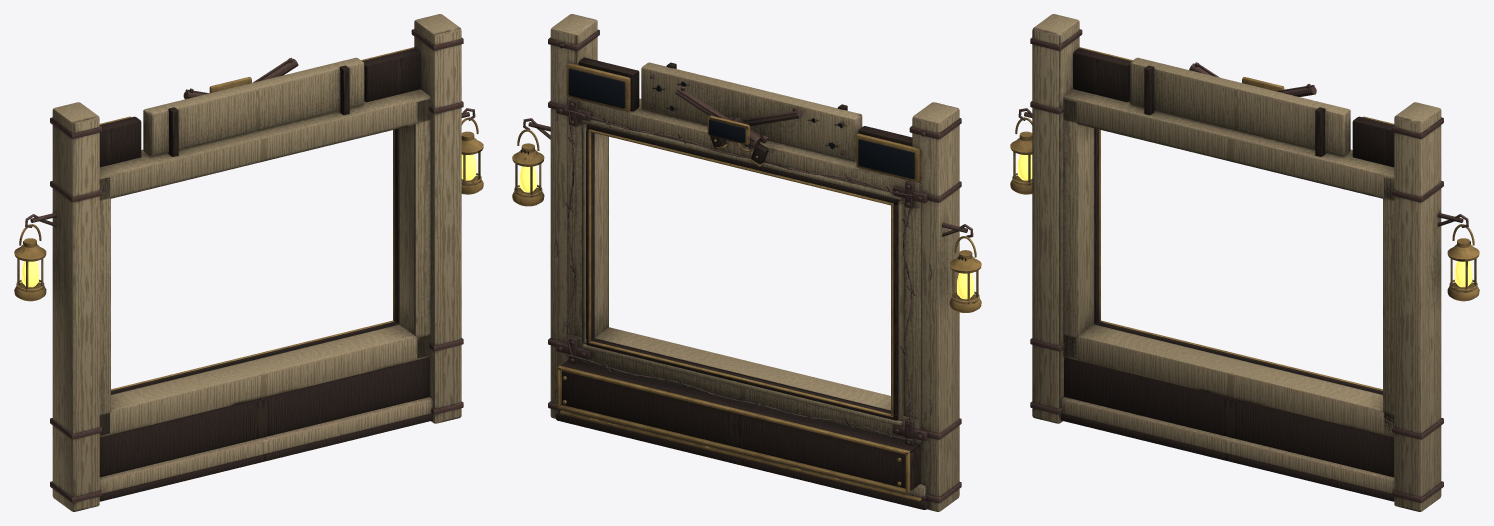
3 renders of one model, left to right at view 1: azimuth 30°, elevation 25°; view 2: azimuth 150°, elevation 25°; view 3: azimuth 330°, elevation 25°, orthographic.
Visible parts, largest first — view 1: Bleached_weathered_timber, Scorched_timber, Aged_brass, Oxidized_forged_iron, Oil_lantern_glow; view 2: Bleached_weathered_timber, Scorched_timber, Aged_brass, Oxidized_forged_iron, Dark_blank_enamel, Oil_lantern_glow; view 3: Bleached_weathered_timber, Scorched_timber, Aged_brass, Oxidized_forged_iron, Oil_lantern_glow.
Part boxes in pixels (x1,y1,x2,y2): Bleached_weathered_timber: (52,14,461,511); Scorched_timber: (99,48,432,501); Aged_brass: (14,47,483,390); Oxidized_forged_iron: (25,29,475,502); Oil_lantern_glow: (21,154,476,287); Bleached_weathered_timber: (550,14,959,511); Scorched_timber: (556,57,929,509); Aged_brass: (512,63,981,501); Oxidized_forged_iron: (523,29,973,503); Dark_blank_enamel: (521,68,965,260); Oil_lantern_glow: (519,166,974,299); Bleached_weathered_timber: (1032,14,1441,511); Scorched_timber: (1061,48,1394,501); Aged_brass: (1010,47,1479,390); Oxidized_forged_iron: (1018,29,1468,502); Oil_lantern_glow: (1017,154,1472,287).
Bounding box in the file's own units: 10.6 × 8.5 × 1.56.
Materials: 6 (5 with a texture image).
